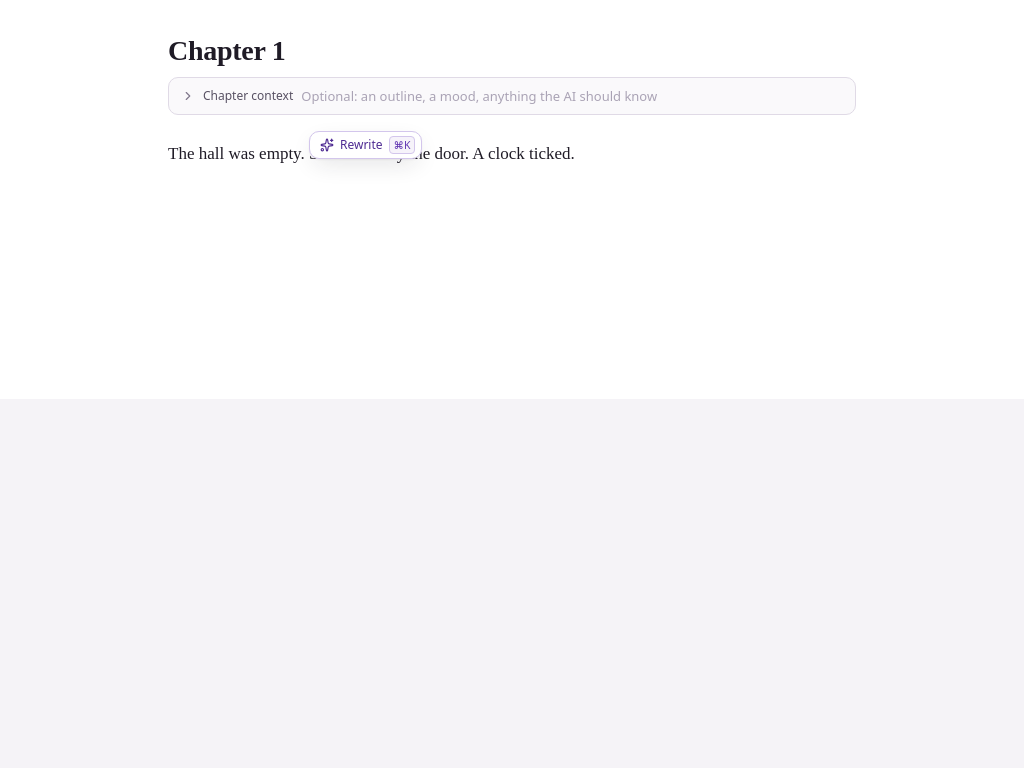
Test: selection rewrite flow › streams a suggestion, then accepts it through the editor
This screenshot has width=1024, height=768.
Step 1. Click the button "Rewrite ⌘K" → (366, 145), box x1=309 y1=131 x2=422 y2=159
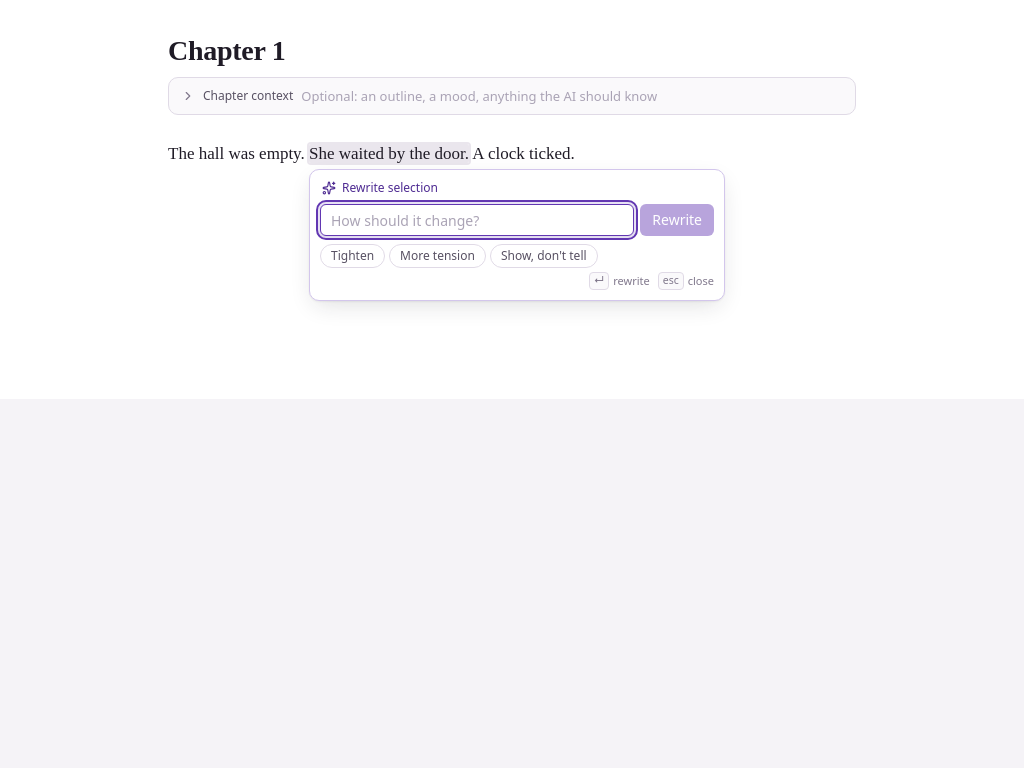
Step 2. Type "more tense" into the field named "Rewrite instruction" → (477, 220), box x1=320 y1=204 x2=634 y2=236
Then press Enter
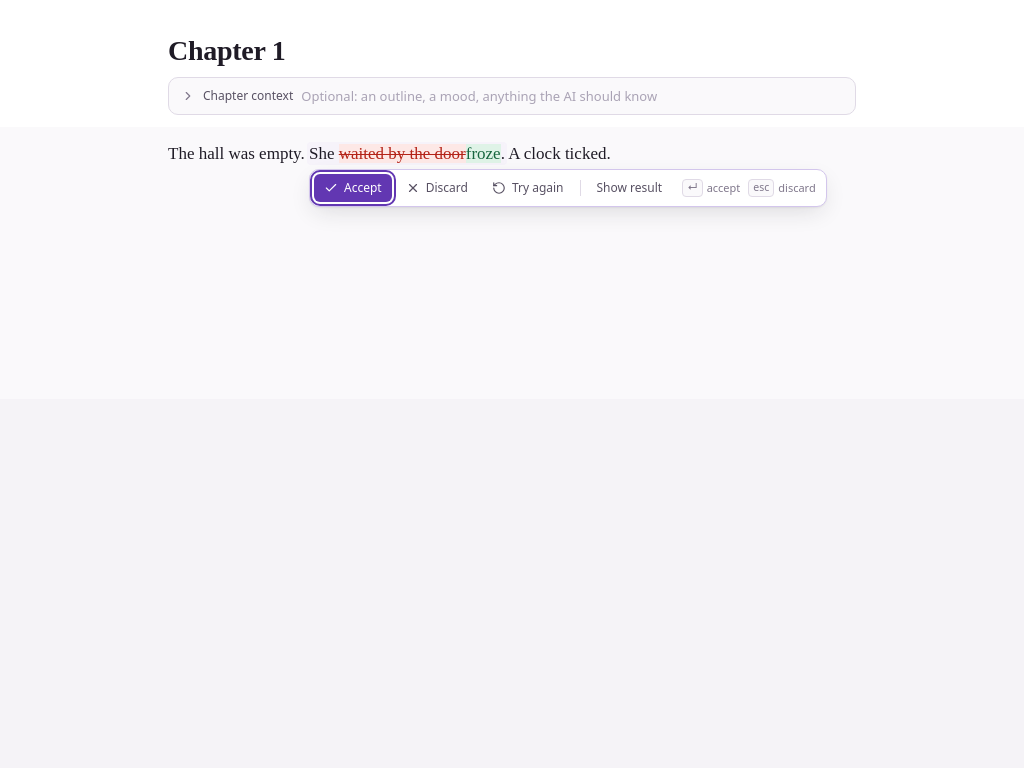
Expected: the field named "Document body" has attribute contenteditable="false", x1=168 y1=144 x2=611 y2=163
Step 3. Click the button "Accept" → (353, 188), box x1=314 y1=174 x2=392 y2=202
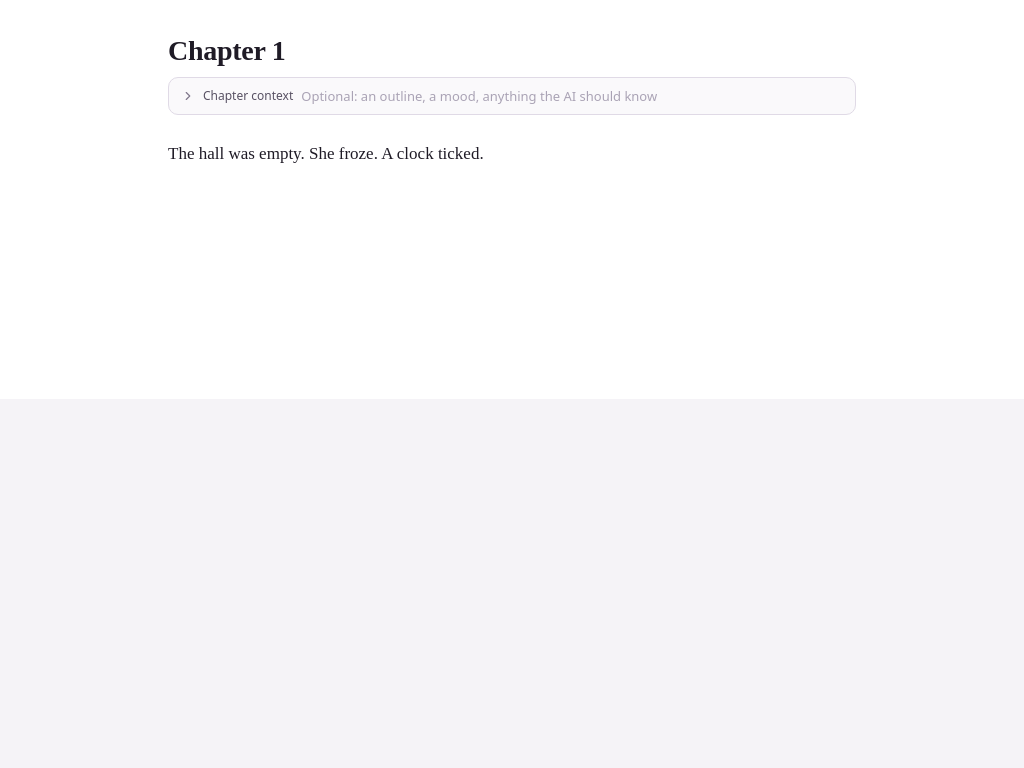
Expected: the text box labelled "The hall was empty. She froze. A clock ticked." is shown, x1=168 y1=144 x2=484 y2=163
